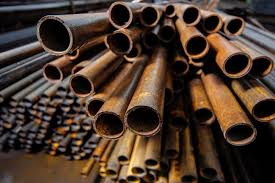rust: (98, 12, 273, 138)
